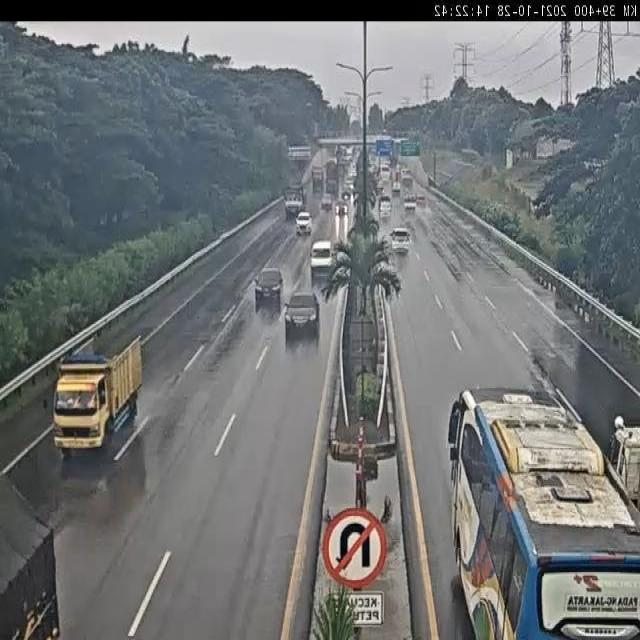Bus: (445, 381, 640, 640), (381, 163, 390, 180)
Car: (284, 290, 320, 344), (254, 267, 284, 313), (390, 228, 411, 254), (296, 211, 312, 234), (379, 194, 392, 218), (321, 194, 334, 212), (374, 180, 384, 197), (415, 193, 426, 208), (346, 179, 356, 195), (392, 180, 401, 195)
Truck: (50, 335, 142, 453), (283, 186, 305, 219), (312, 166, 324, 194), (404, 194, 416, 211)
Van: (310, 240, 333, 277)
